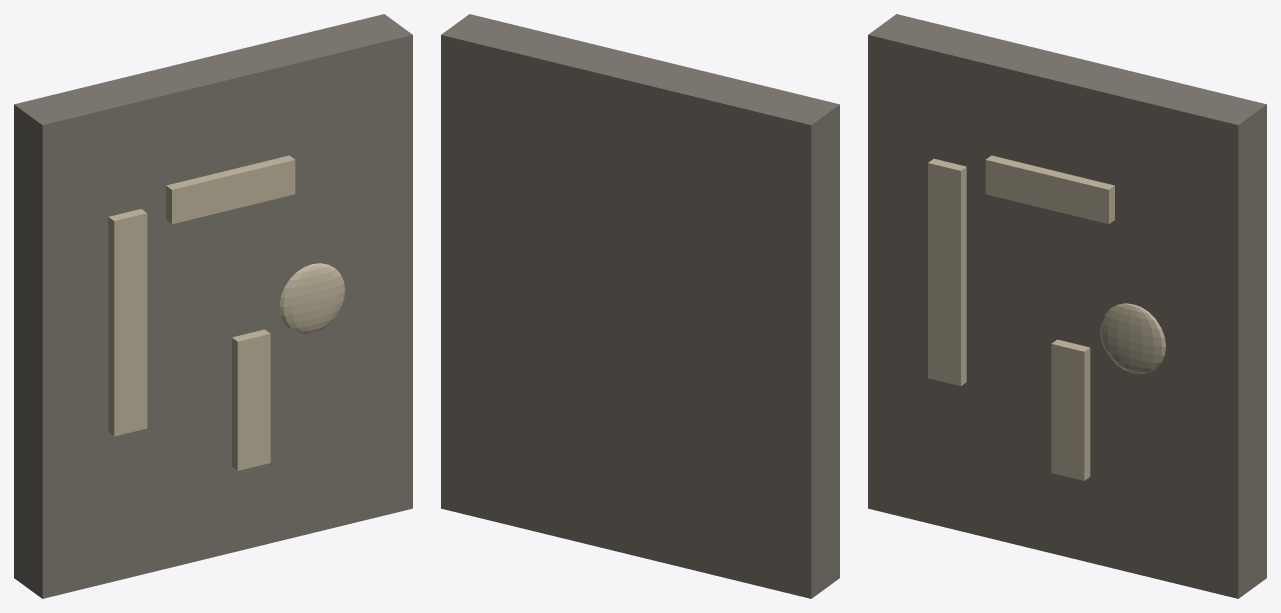
Rendered from carvings.89ed8e26.glb.
3 renders of one model, left to right at view 1: azimuth 30°, elevation 25°; view 2: azimuth 150°, elevation 25°; view 3: azimuth 330°, elevation 25°, orthographic.
Parts seen in each view (by area): view 1: body; view 2: body; view 3: body.
Boxes of the visible parts, x1,y1,x2,y2 form: body: (14,14,412,598); body: (441,14,839,598); body: (868,14,1266,598).
Bounding box in the file's own units: 0.9 × 1.1 × 0.145.
